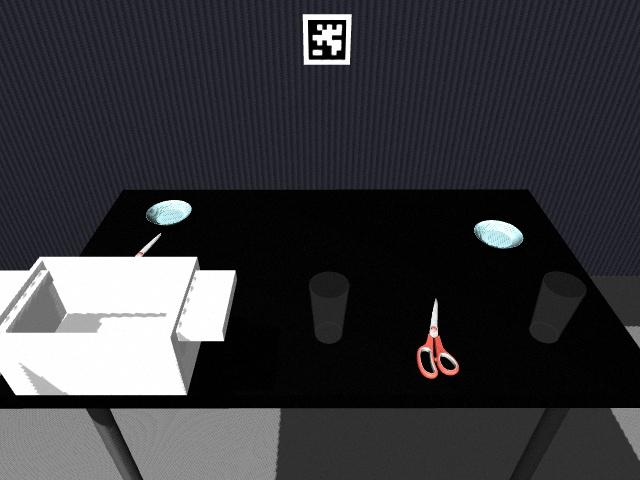cup: (531, 272, 586, 343), (308, 272, 350, 342)
plate: (472, 219, 525, 251), (144, 199, 193, 227)
scissors: (415, 295, 463, 379)
